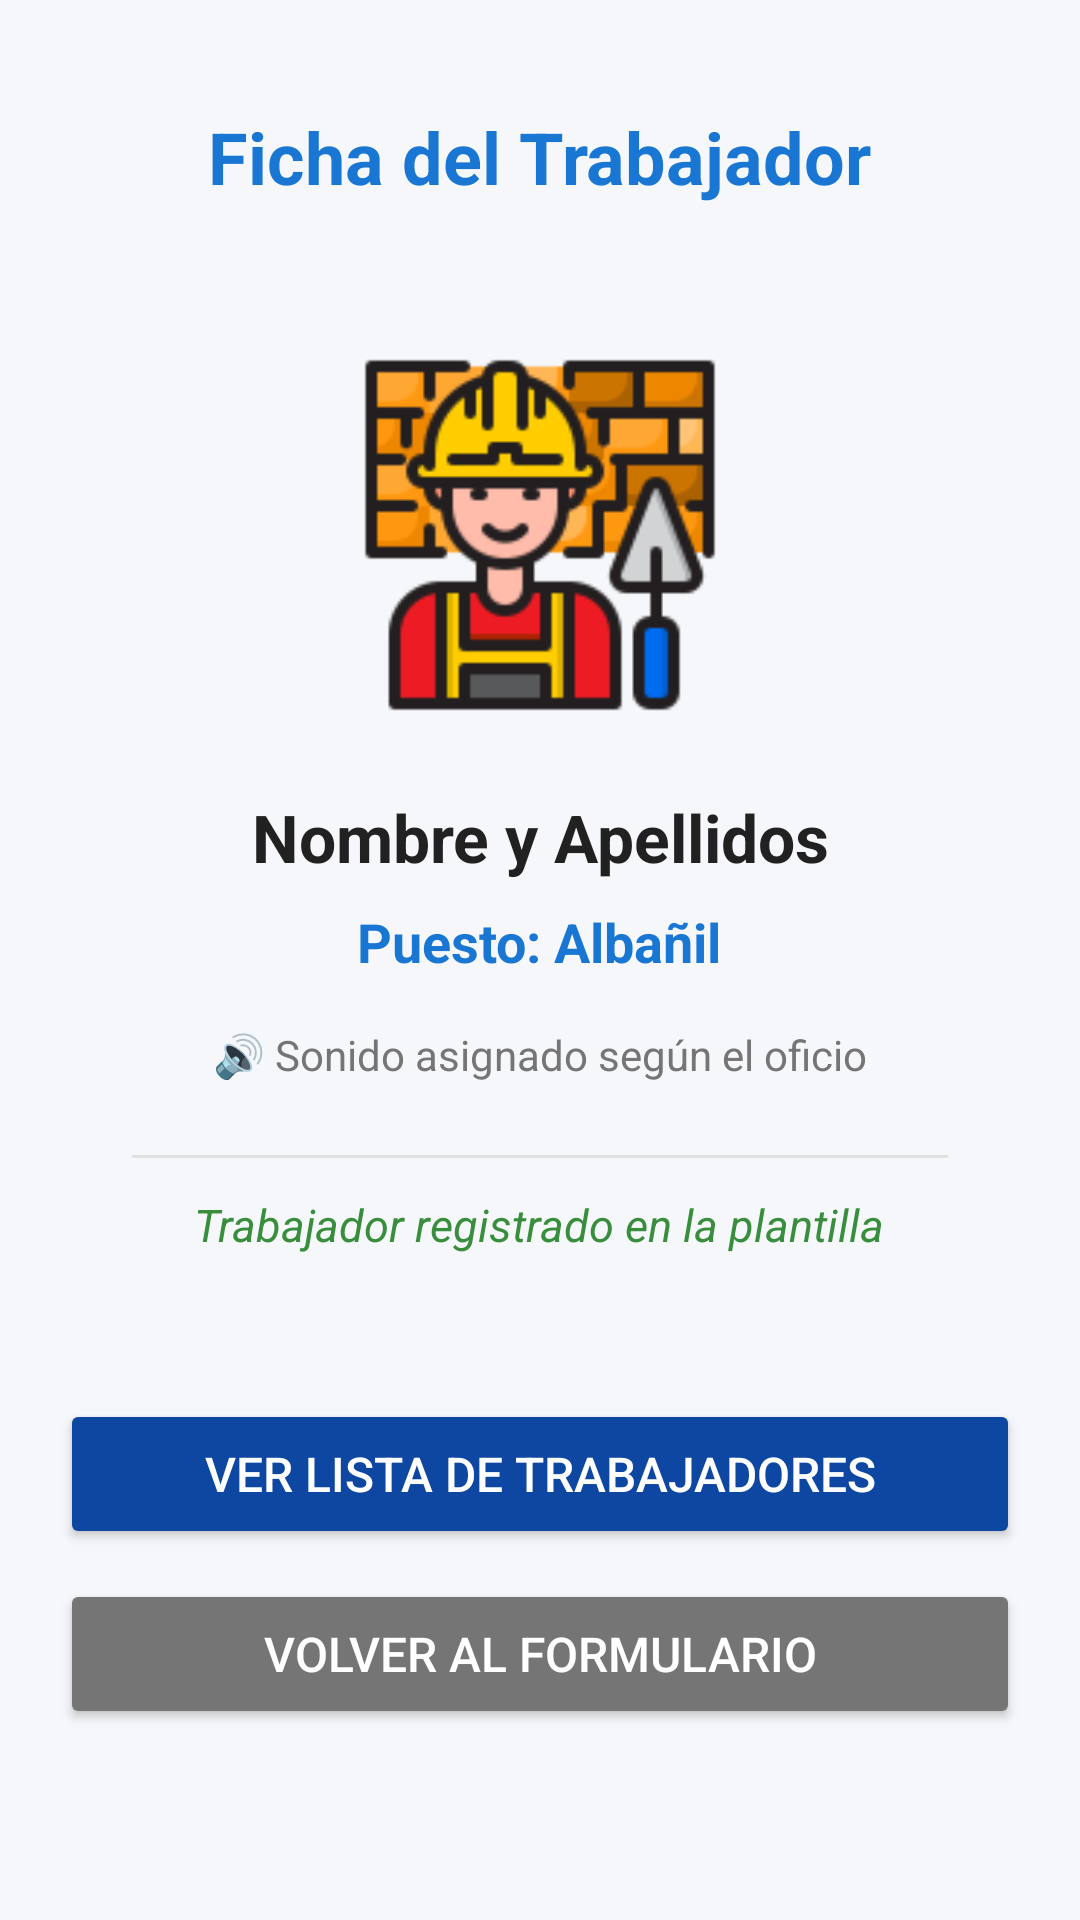

Named icons in this screenshot (1080 × 1920) and their centers, point (x, y):
Foto de perfil del trabajador: point (540, 535)
